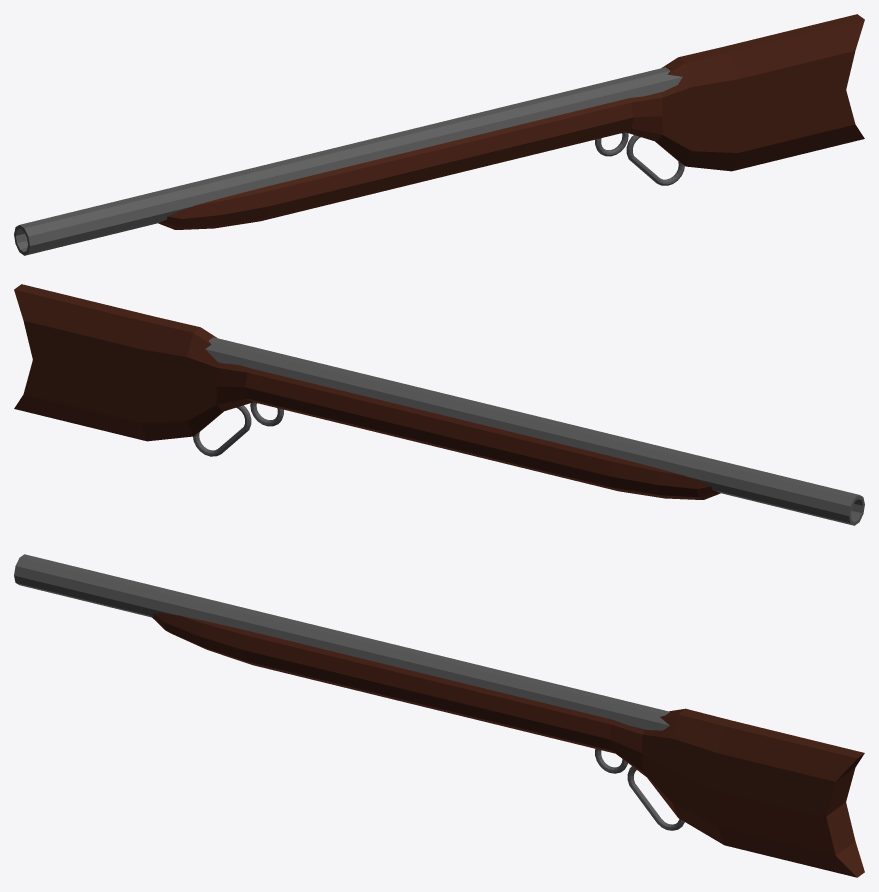
Rendered from Rifle.fbx.
3 renders of one model, top to bottom at view 1: azimuth 30°, elevation 25°; view 2: azimuth 150°, elevation 25°; view 3: azimuth 330°, elevation 25°, orthographic.
Parts seen in each view (by area): view 1: Rifle; view 2: Rifle; view 3: Rifle.
Boxes of the visible parts, <box> form: Rifle: <box>14,14,864,255</box>; Rifle: <box>14,284,864,525</box>; Rifle: <box>14,554,864,877</box>.
Bounding box in the file's own units: 183 × 25.47 × 9.23.
